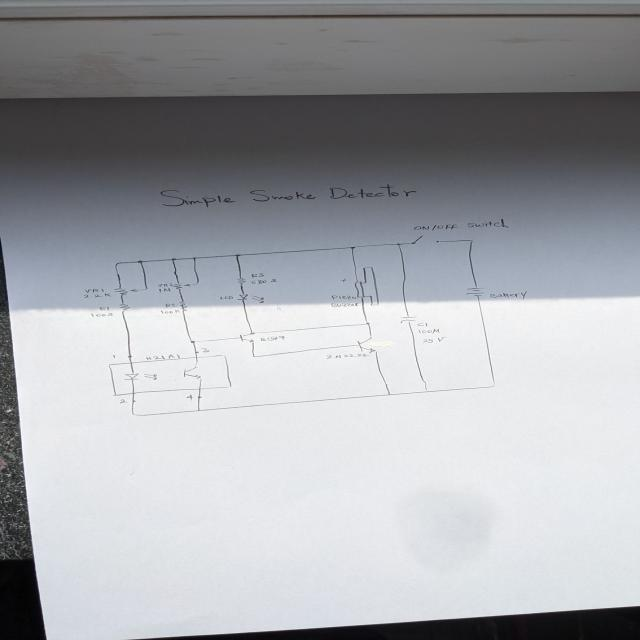capacitor: (398, 315, 418, 324)
diode: (236, 293, 266, 303)
junction: (130, 412, 143, 417), (188, 339, 198, 344), (364, 320, 371, 326), (348, 246, 357, 250), (113, 262, 122, 266), (423, 388, 430, 393), (395, 242, 403, 246), (491, 383, 497, 388), (468, 238, 475, 242), (234, 253, 241, 257), (170, 257, 177, 261), (193, 281, 200, 285), (136, 259, 143, 263), (386, 392, 392, 396), (196, 408, 201, 412), (251, 354, 256, 358), (191, 256, 197, 259), (143, 287, 149, 290)
resistor: (112, 286, 139, 296), (117, 301, 130, 313), (177, 300, 190, 312), (173, 282, 191, 290), (235, 277, 247, 285)
source: (464, 286, 488, 297)
switch: (410, 234, 442, 245)
text: (158, 183, 418, 208), (411, 217, 509, 231), (488, 290, 530, 300), (325, 352, 370, 360), (144, 354, 180, 361), (421, 336, 447, 343), (82, 292, 112, 298), (259, 335, 286, 341), (250, 278, 277, 284), (330, 294, 356, 300), (330, 302, 360, 307), (417, 328, 440, 334), (90, 312, 113, 317), (158, 309, 180, 314), (83, 288, 105, 293), (164, 302, 178, 308), (250, 272, 264, 278), (218, 295, 234, 300), (156, 283, 175, 287), (198, 347, 210, 353), (185, 394, 195, 401), (416, 322, 429, 327), (98, 306, 110, 311), (118, 398, 128, 404), (157, 288, 171, 292), (111, 354, 117, 358)
transistor: (355, 335, 378, 353), (238, 331, 259, 343)
